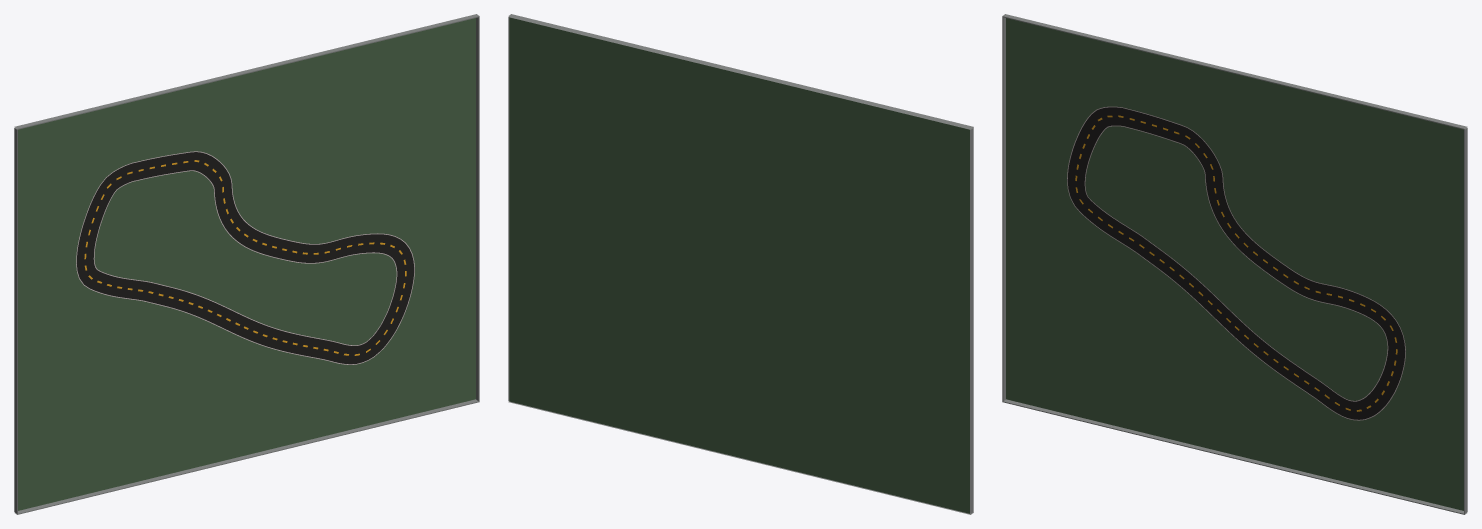
The model's file is track.obj.
3 renders of one model, left to right at view 1: azimuth 30°, elevation 25°; view 2: azimuth 150°, elevation 25°; view 3: azimuth 330°, elevation 25°, orthographic.
Bounding box in the file's own units: 26.9 × 21.45 × 0.3.
